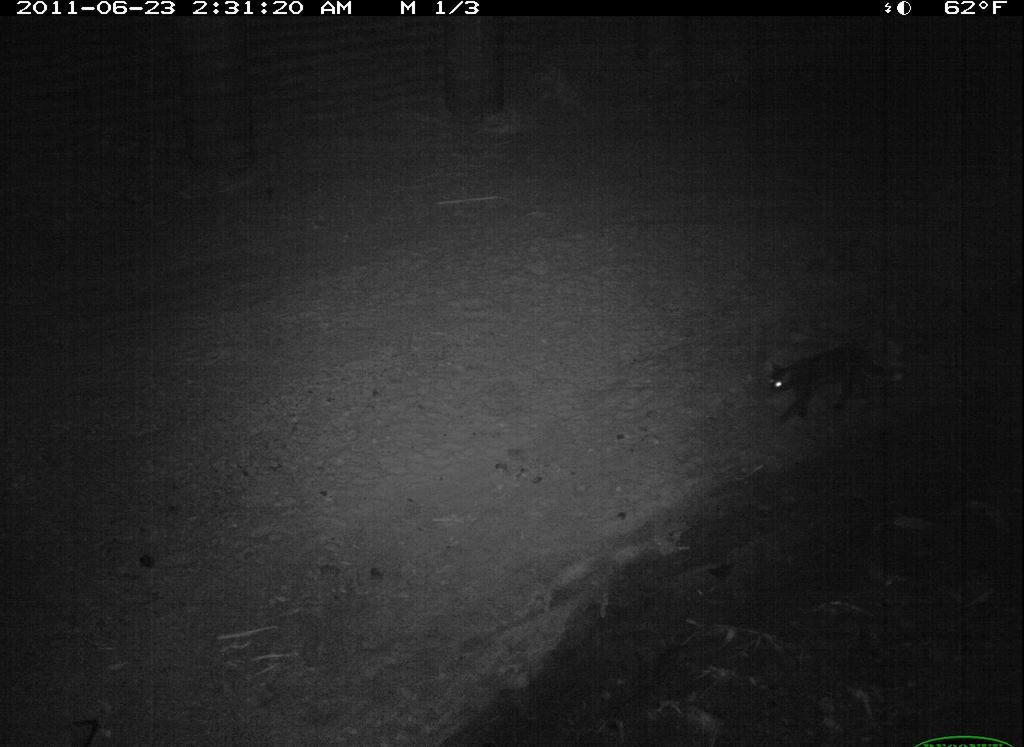cat: (756, 329, 913, 434)
